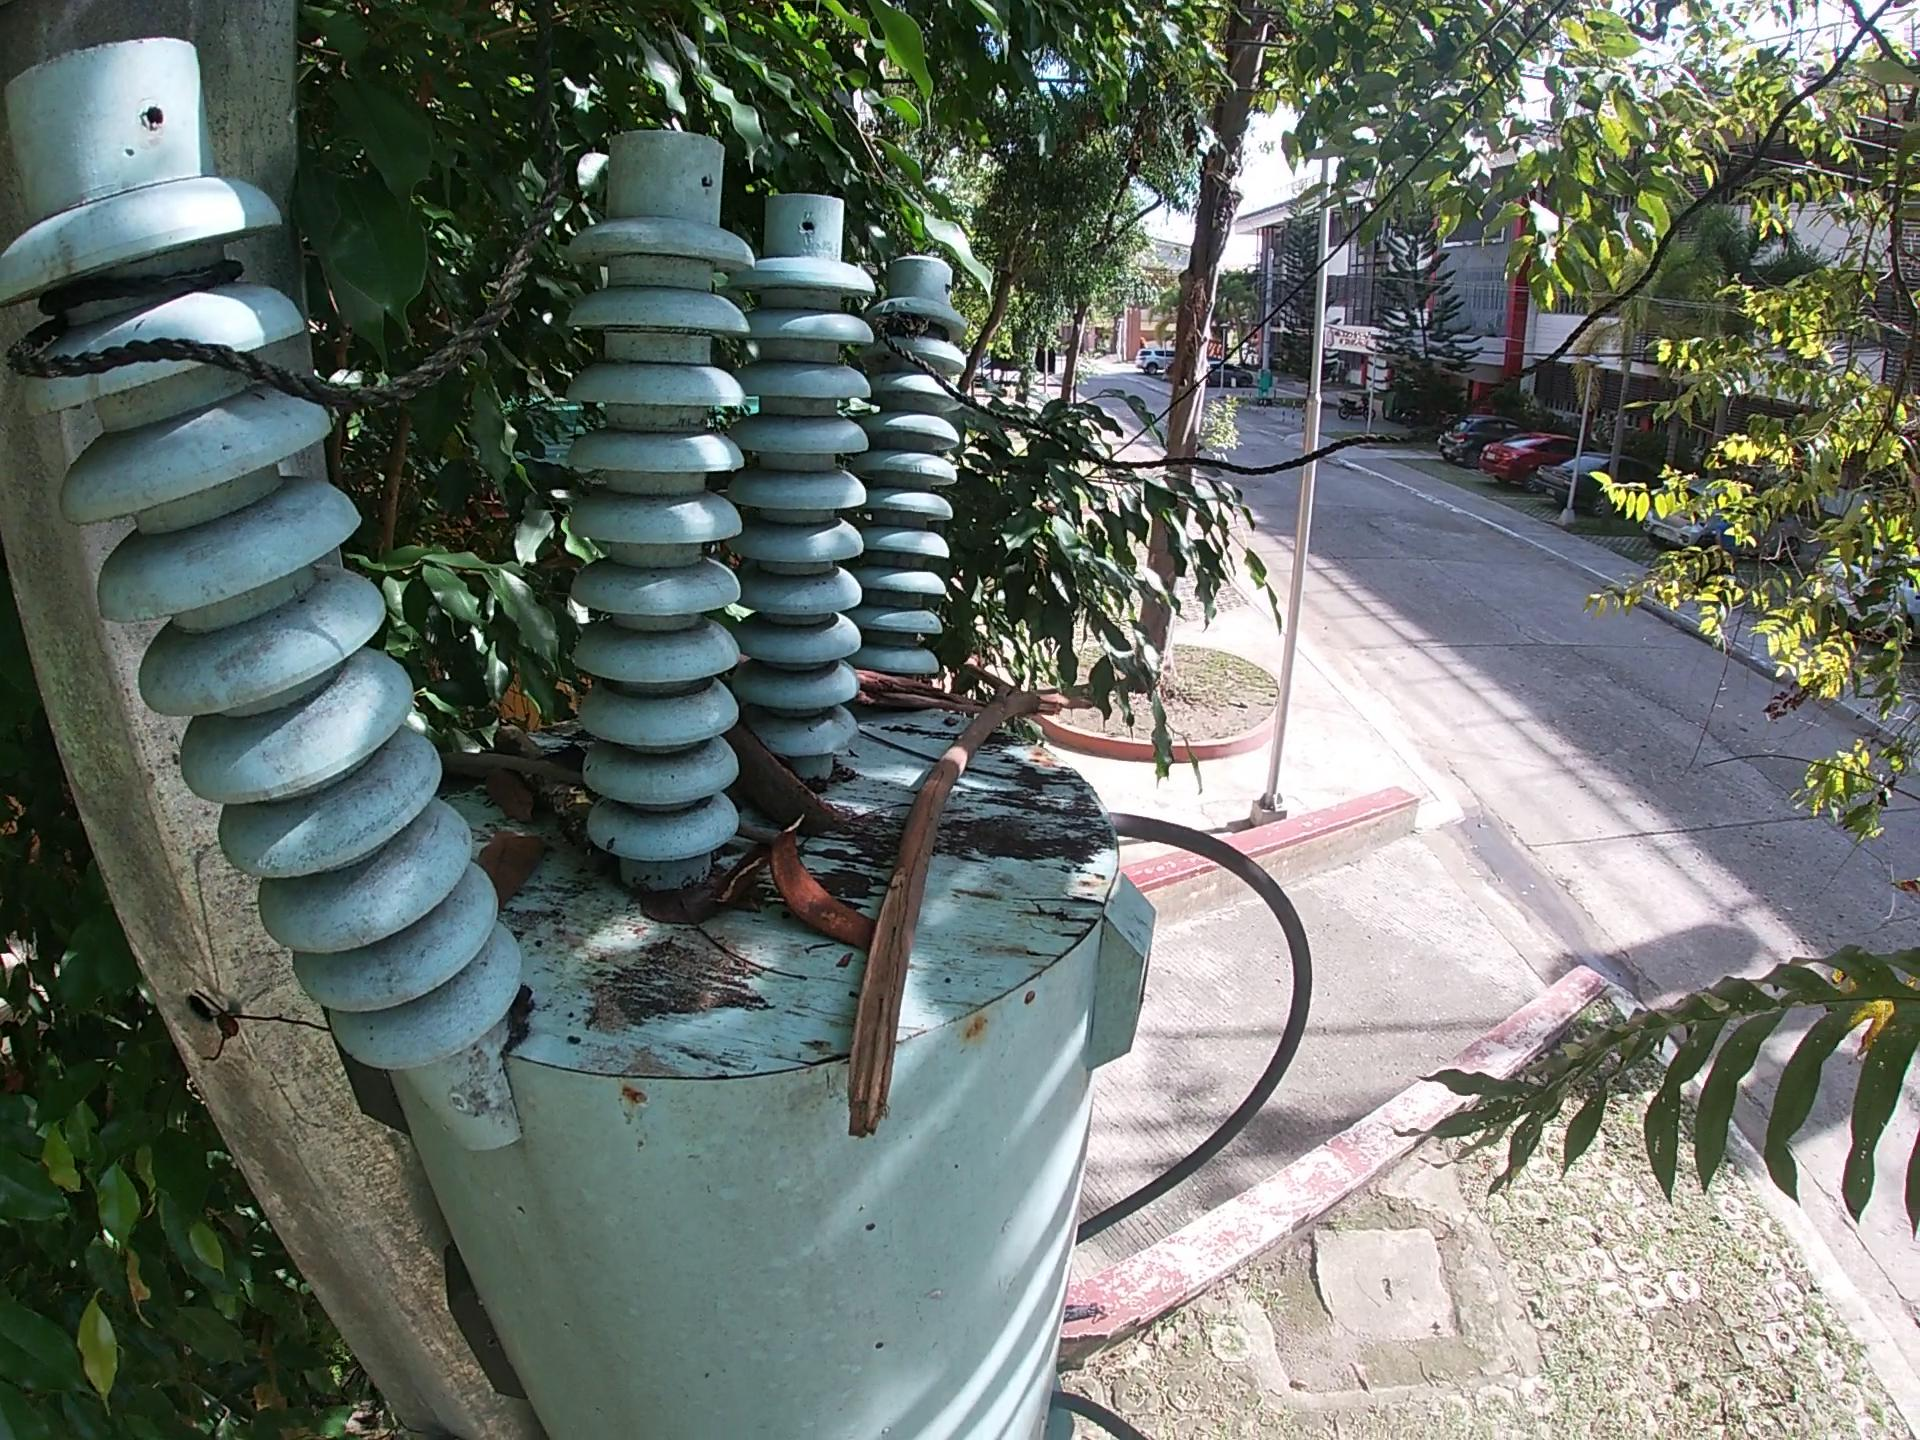leaf: (470, 815, 540, 903), (626, 880, 726, 932), (482, 756, 540, 824)
mahogany fruit: (770, 818, 878, 954), (726, 718, 847, 830), (708, 844, 773, 908)
tree branch: (830, 652, 1087, 1144), (490, 722, 615, 870), (850, 666, 990, 718), (432, 753, 591, 790), (730, 821, 779, 849)
